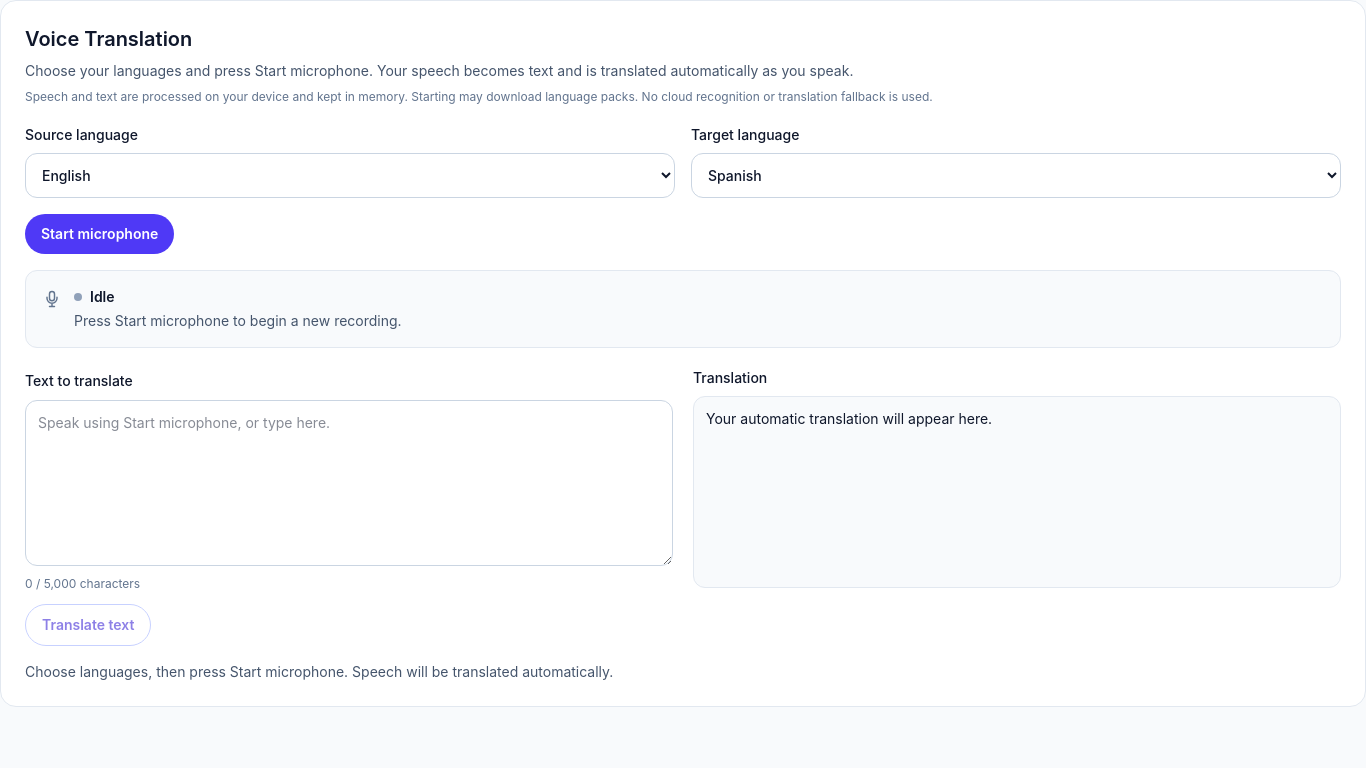
Test: Start microphone prepares local translation and automatically translates finalized speech while still recording
Later steps or results of the test are not shown.
Click the button "Start microphone" at (100, 234), box [25,214,174,254]
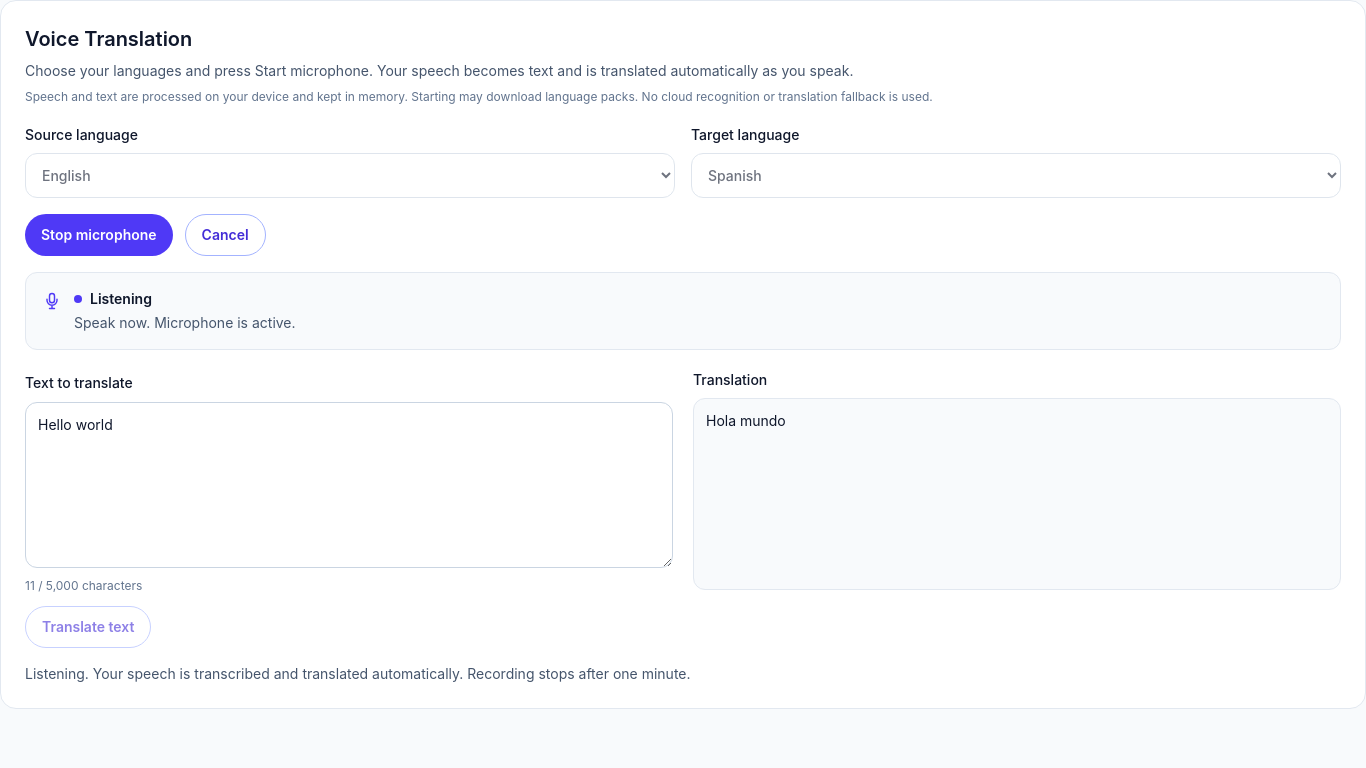
Now the button "Stop microphone" is shown
Now the message shows "Listening", box [25,665,690,682]
Now the text "Hola mundo" is shown, box [693,398,1341,590]
Click the button "Stop microphone" at (99, 235), box [25,214,173,256]
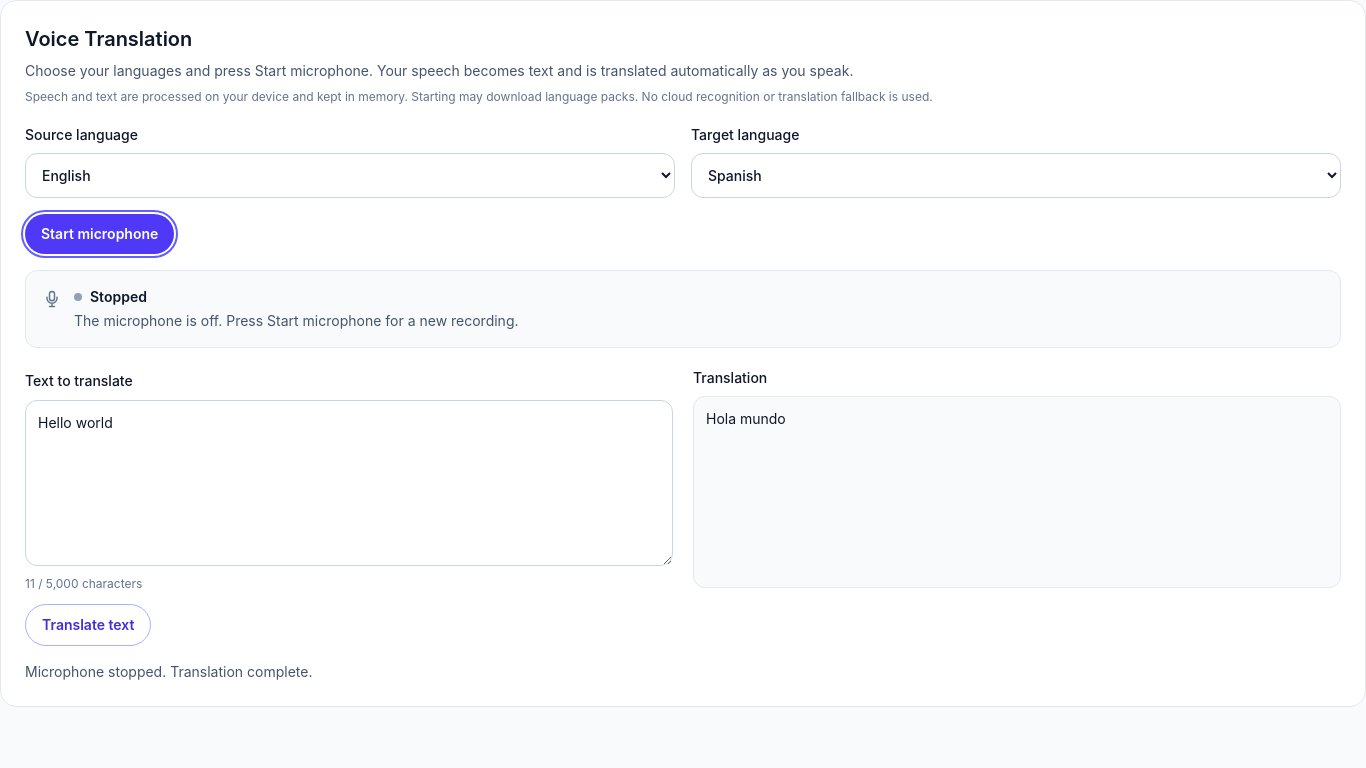
Now the message shows "Translation complete", box [25,663,312,680]
